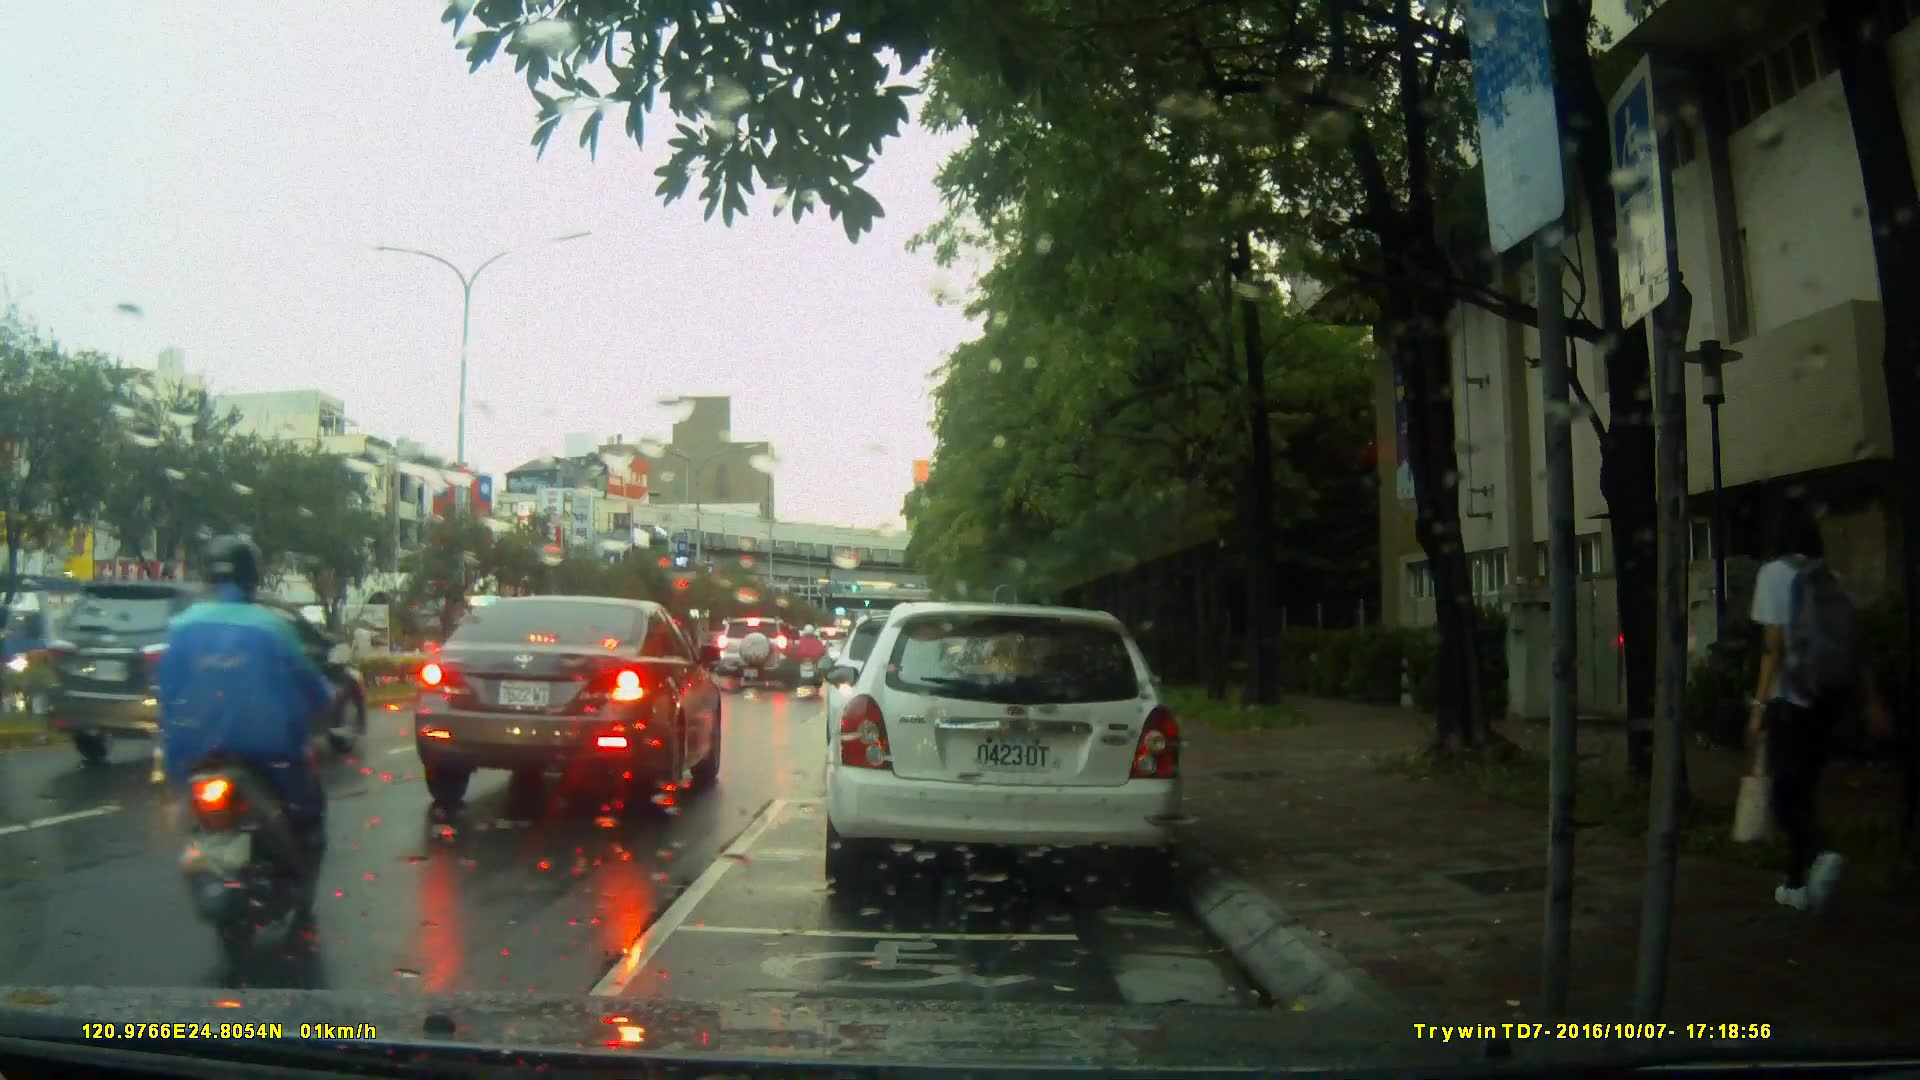pedestrian: (1729, 501, 1887, 919)
rider: (155, 532, 349, 956), (794, 624, 831, 701)
vehicle: (820, 602, 1188, 898), (413, 594, 726, 816), (45, 579, 372, 759), (718, 617, 805, 692)
